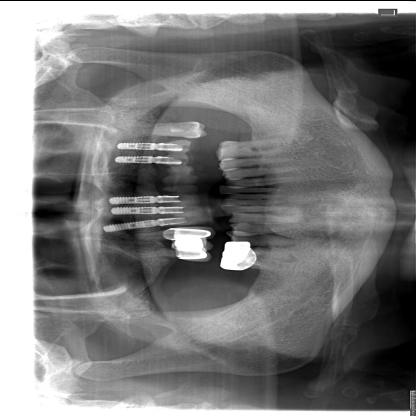ITI: (101, 217, 162, 234), (109, 194, 155, 204), (108, 205, 158, 214), (116, 141, 157, 149), (114, 155, 153, 163)
